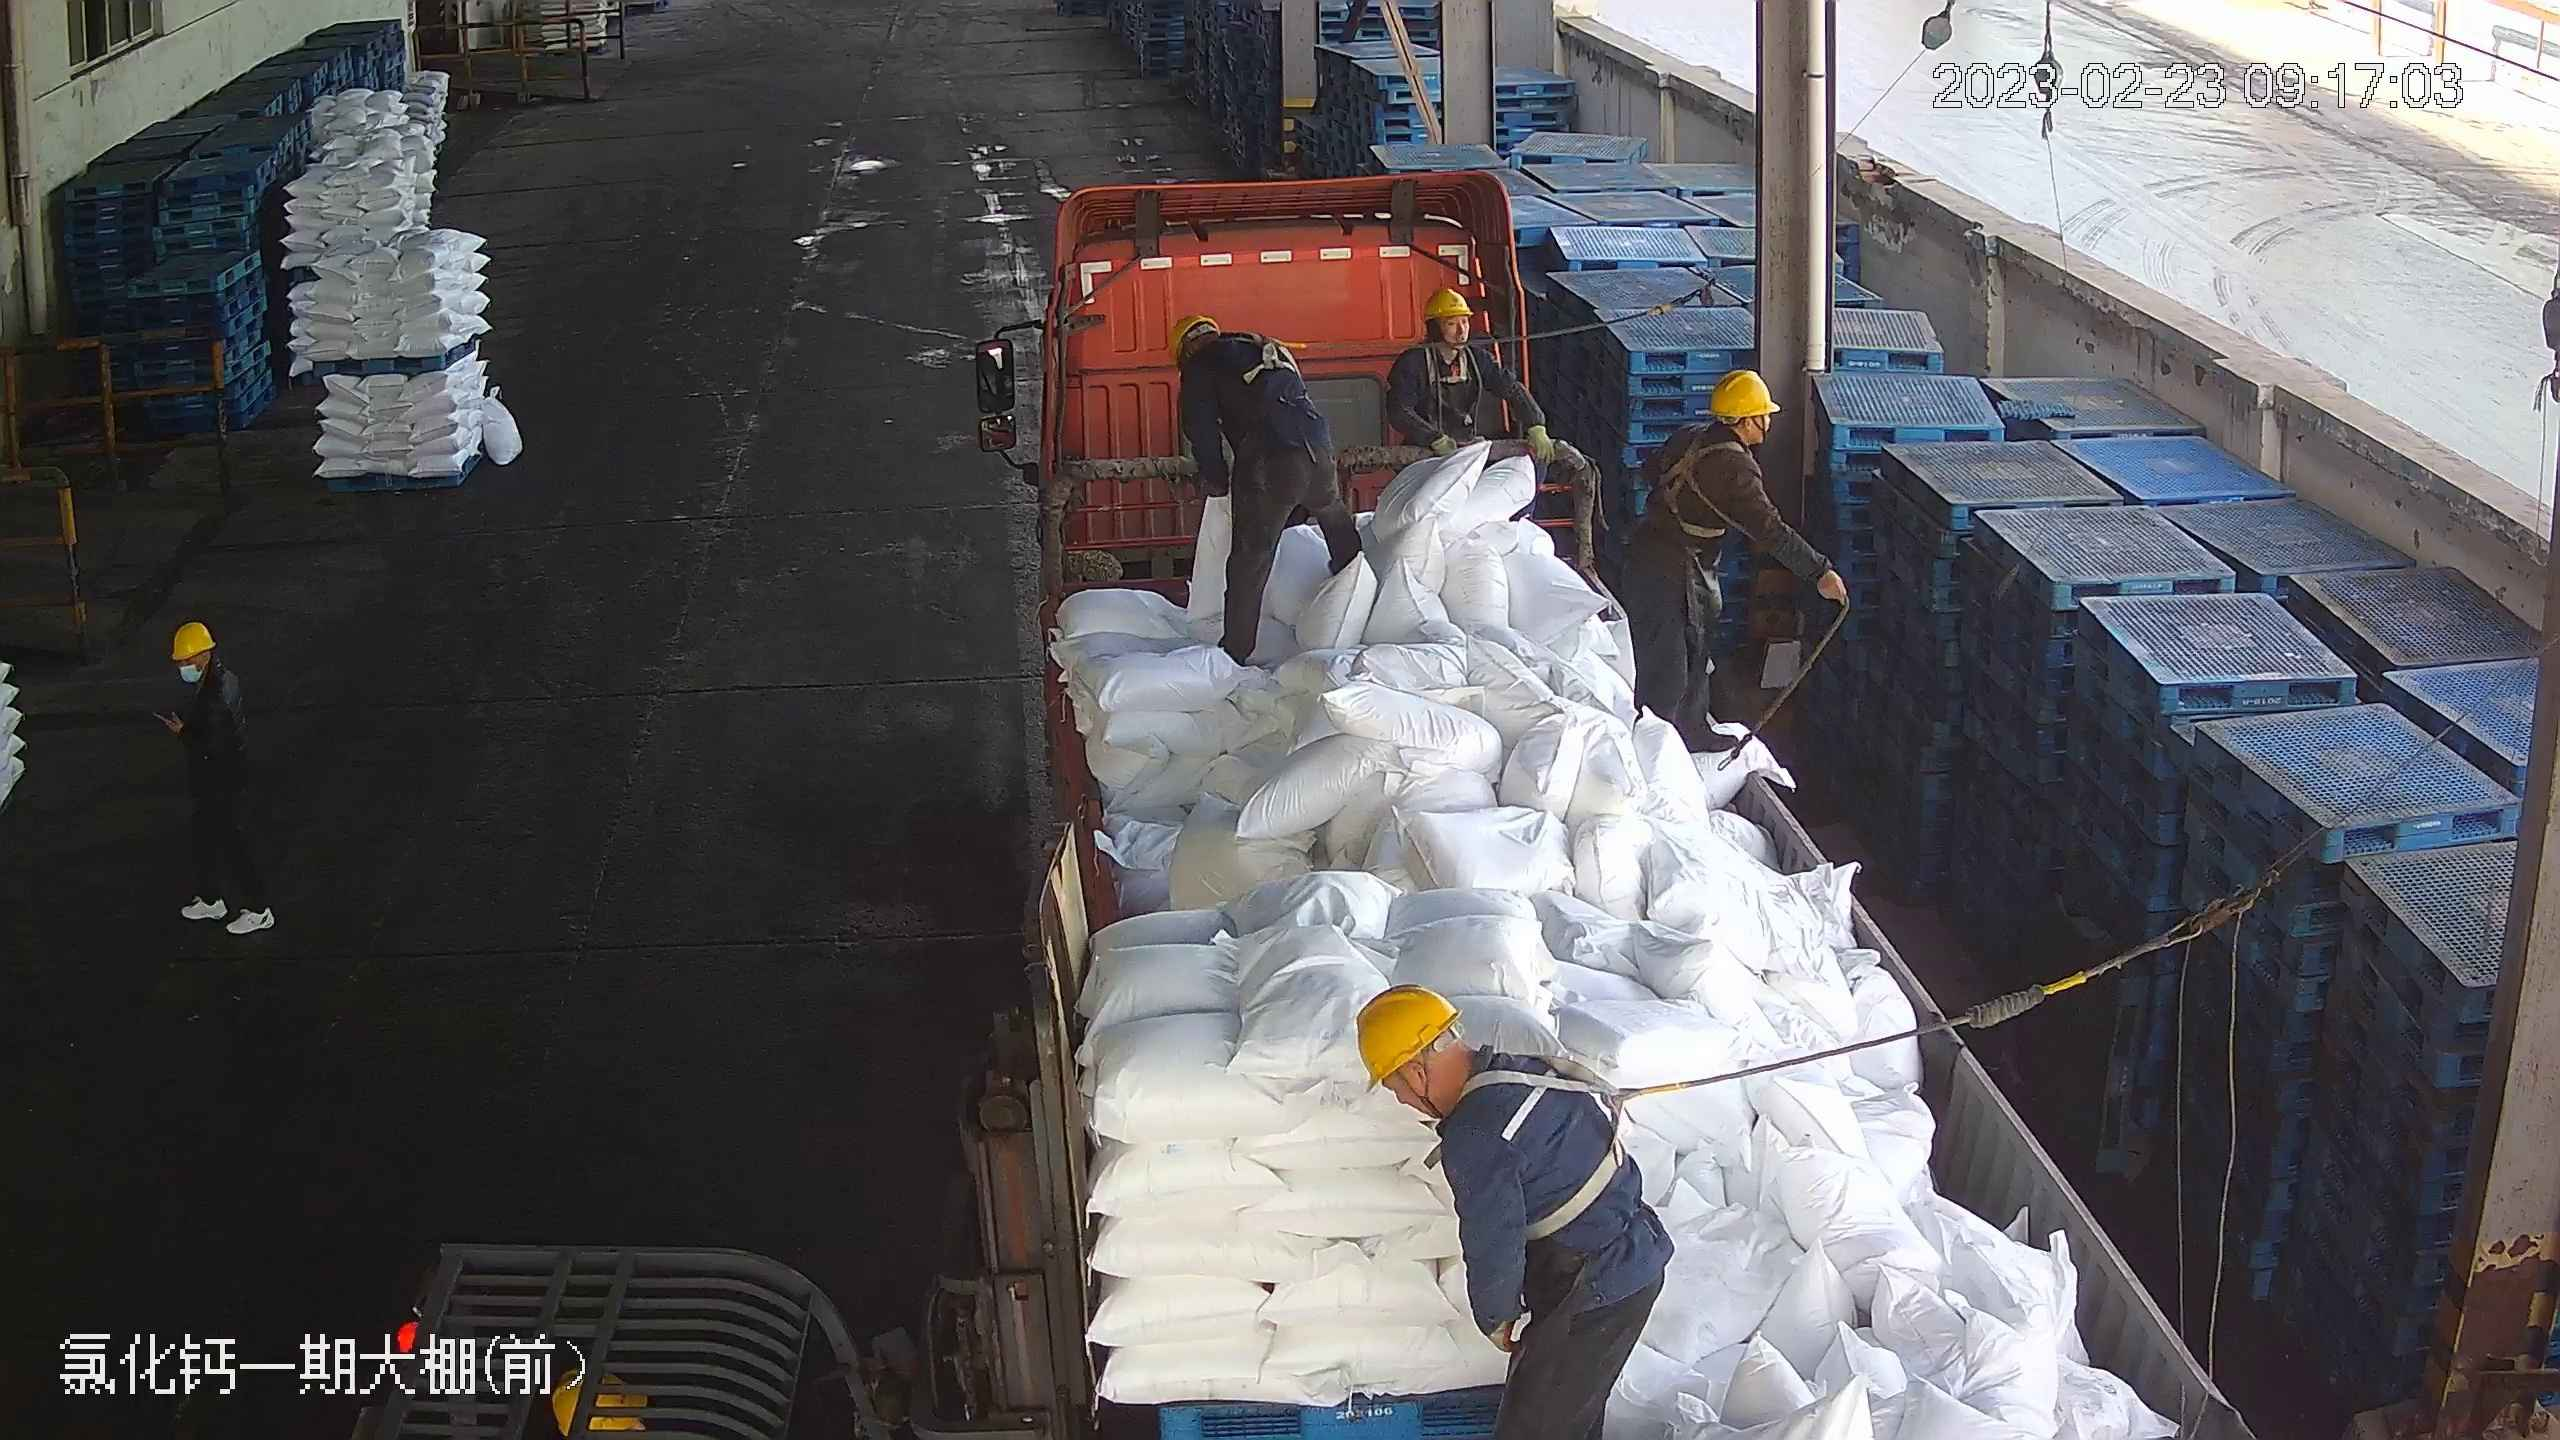belt: (1482, 1057, 1688, 1239), (1650, 440, 1742, 538), (1216, 327, 1305, 398), (1413, 330, 1481, 389)
head: (1355, 986, 1576, 1193), (1678, 368, 1790, 496), (1400, 285, 1507, 382), (1162, 313, 1279, 400), (159, 620, 240, 720)
helmet: (1351, 983, 1461, 1087), (1703, 364, 1783, 418), (1162, 312, 1217, 360), (168, 618, 215, 660), (1421, 284, 1476, 320)
people: (1356, 987, 1672, 1440), (1621, 367, 1836, 761), (1161, 310, 1367, 669), (146, 615, 286, 937)
truck: (973, 170, 2255, 1440)
